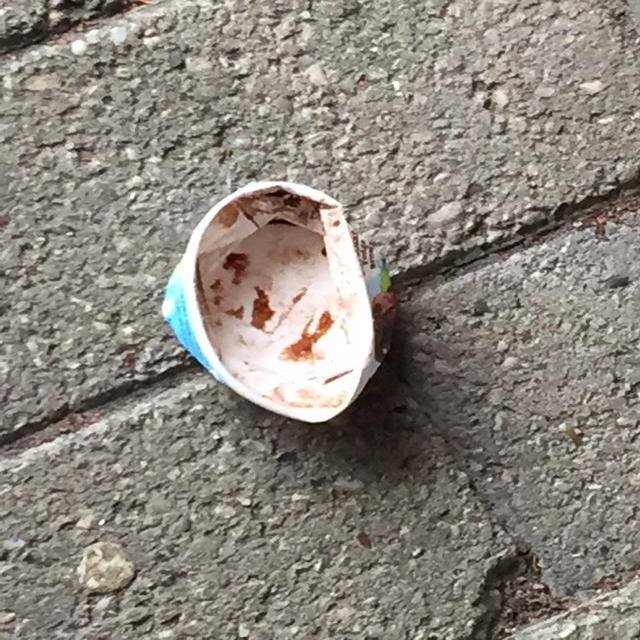Paper: (156, 177, 401, 428)
